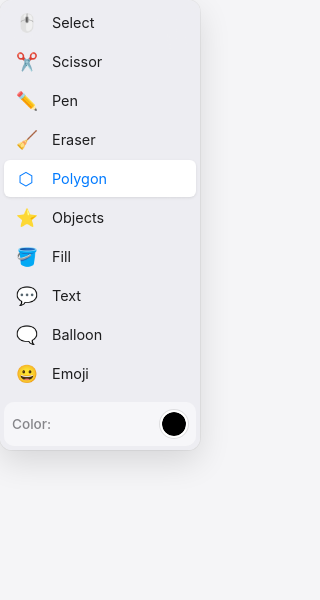
Test case: Toolbar › Polygon opens the sides chooser and no shape grid
The width and height of the screenshot is (320, 600).
Click the button "⬡ Polygon": click(100, 178) [4, 160, 196, 197]
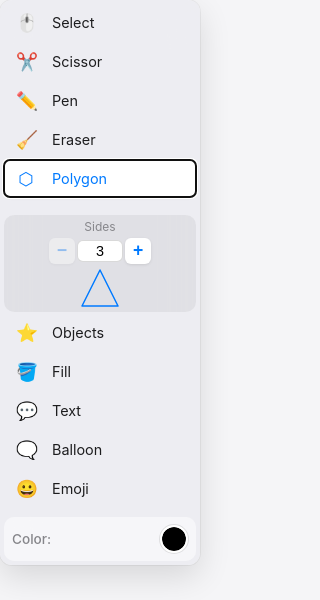
Result: the number field named "Number of sides" holds "3" at [77, 240, 123, 262]
